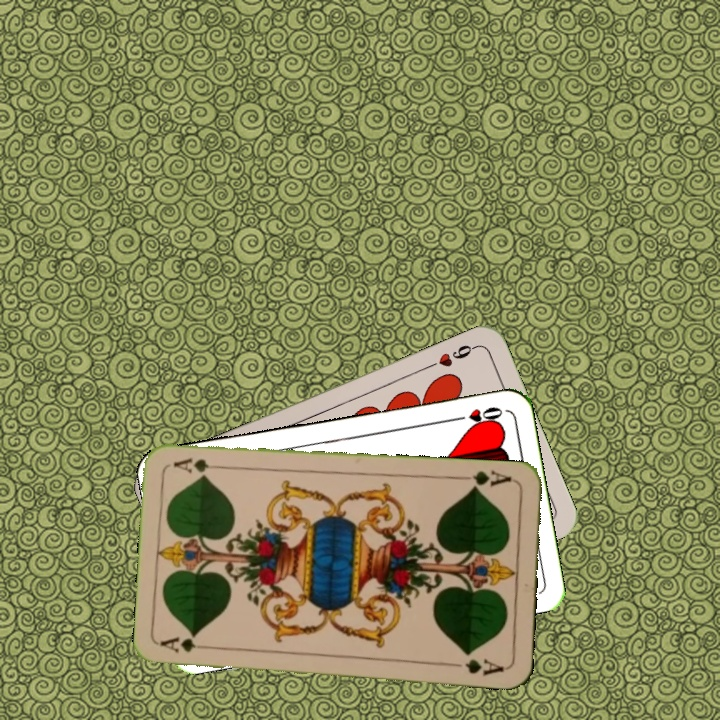GA: (457, 466, 516, 493), (158, 636, 217, 656)
H9: (424, 340, 480, 371)
HO: (447, 402, 506, 427)
